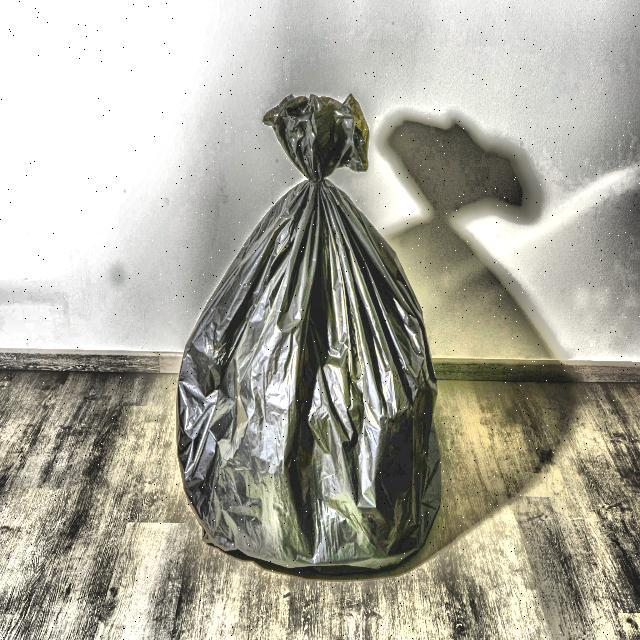Trashbag: (172, 88, 447, 585)
